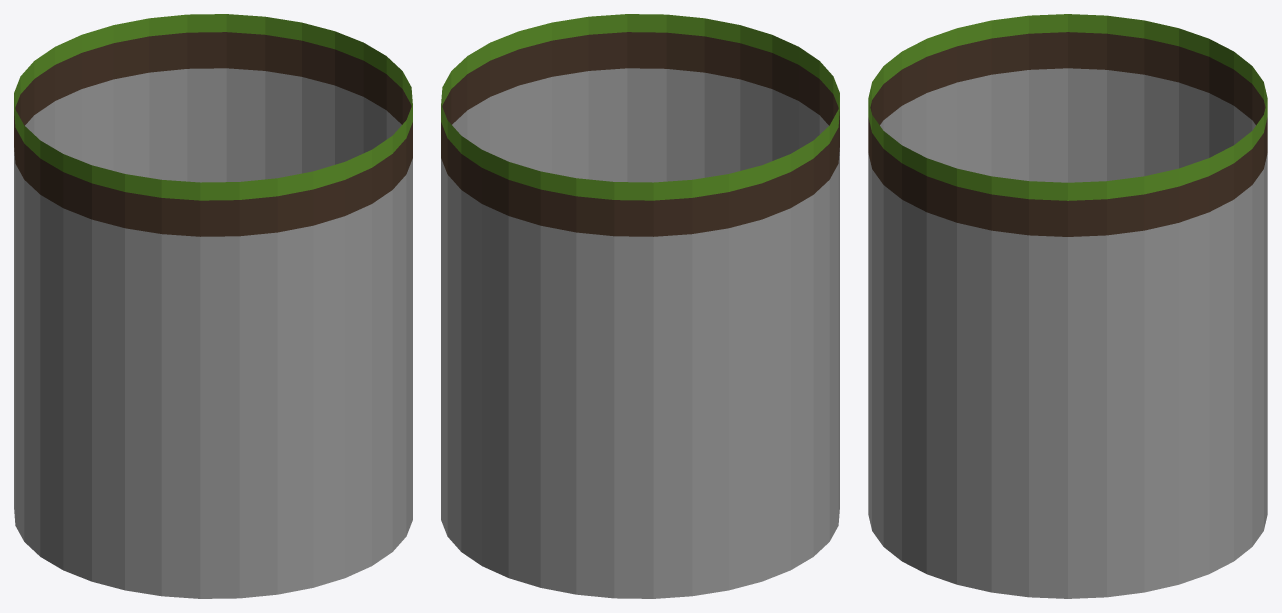
File: hole.glb
3 renders of one model, left to right at view 1: azimuth 30°, elevation 25°; view 2: azimuth 150°, elevation 25°; view 3: azimuth 270°, elevation 25°, orthographic.
Parts seen in each view (by area): view 1: hole; view 2: hole; view 3: hole.
Part boxes in pixels (bbox=[...]): hole: bbox=[14, 14, 412, 598]; hole: bbox=[441, 14, 839, 598]; hole: bbox=[868, 14, 1267, 598].
Size of the model in its own units: 2 by 2.3 by 2.
